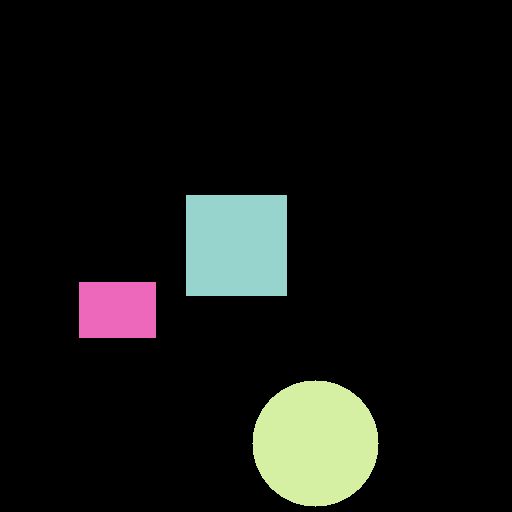circle: (252, 380, 378, 506)
rectangle: (79, 282, 155, 337)
square: (186, 195, 286, 295)
